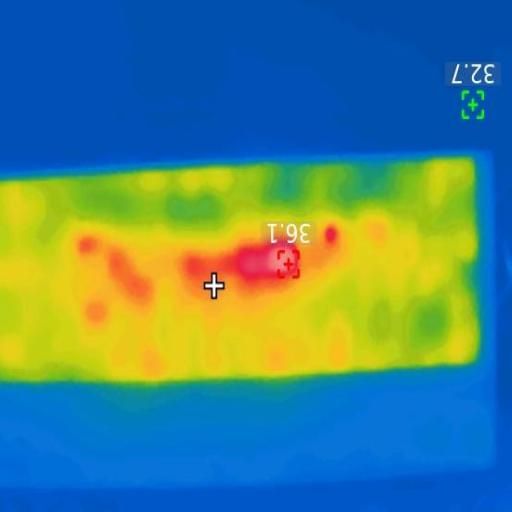hotspot: (236, 246, 300, 274), (323, 228, 336, 246)
